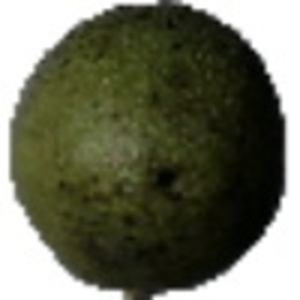abacate: (2, 1, 289, 293)
